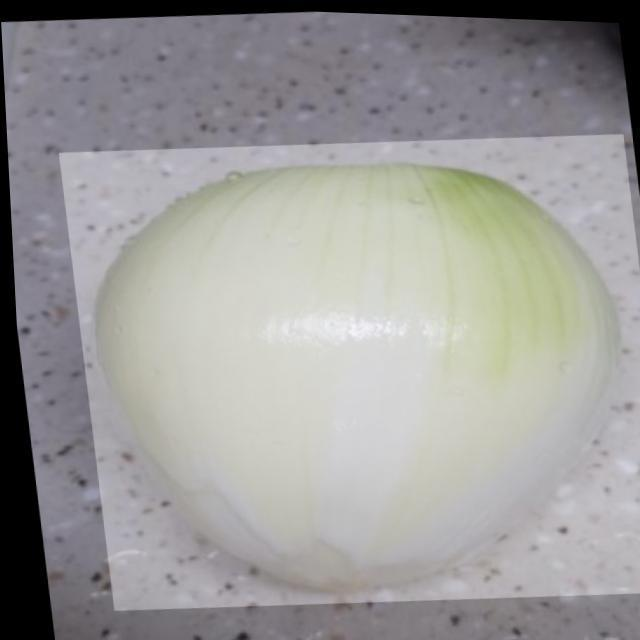Onion: (55, 113, 640, 626)
